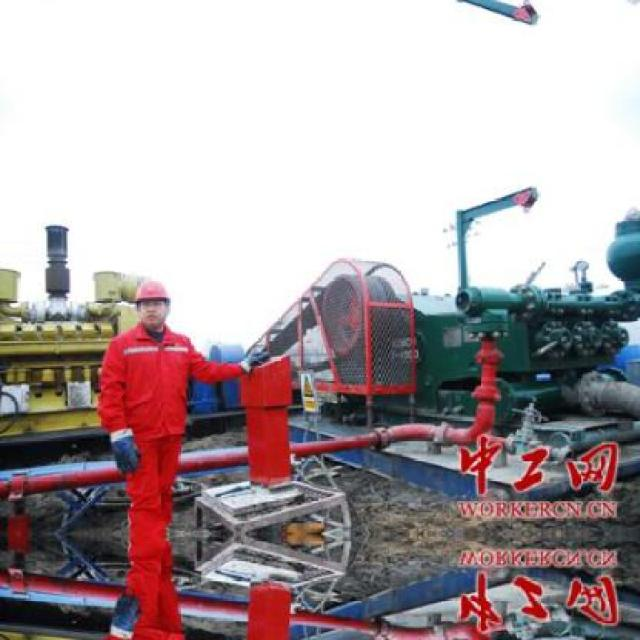helmet: (130, 270, 176, 330)
